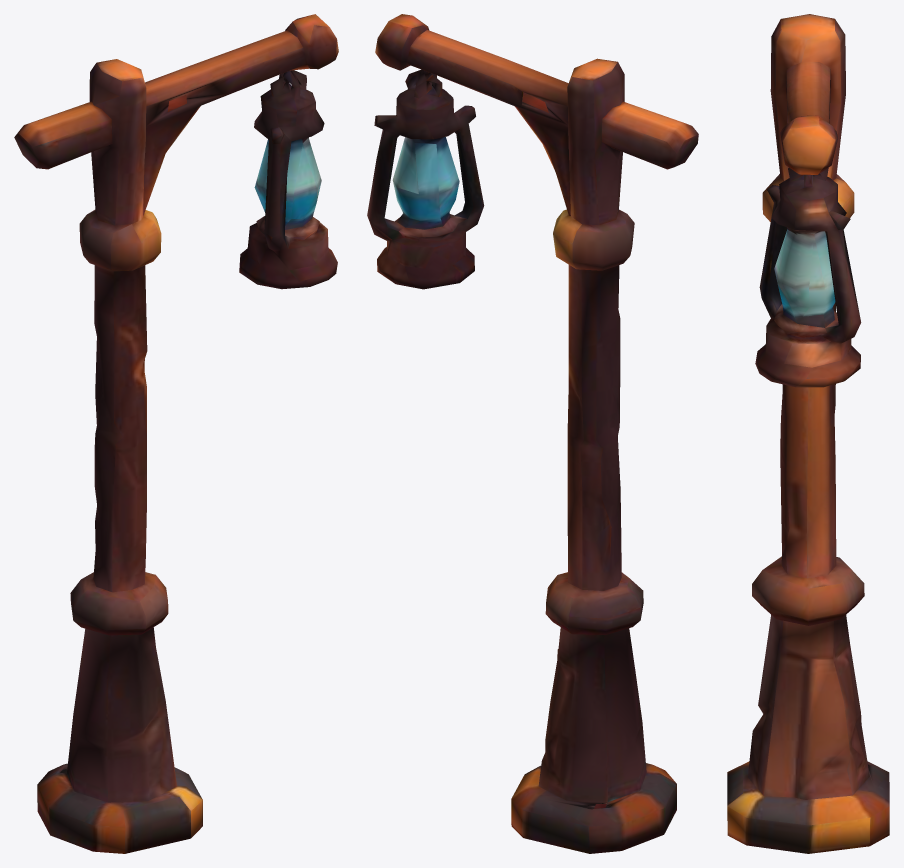
File: lg-ghost-lantern.glb
3 views of the same model, side by side, from view 1: azimuth 30°, elevation 25°; view 2: azimuth 150°, elevation 25°; view 3: azimuth 270°, elevation 25° (orthographic). The views are drawn at different scales.
Visible parts, largest first — view 1: geometry_0; view 2: geometry_0; view 3: geometry_0.
Part boxes in pixels (box(x1,y1,x2,y2)): geometry_0: box(14, 14, 338, 853); geometry_0: box(367, 14, 698, 853); geometry_0: box(727, 14, 889, 853).
Bounding box in the file's own units: 0.427 × 1 × 0.1845.
Materials: 1 (1 with a texture image).
